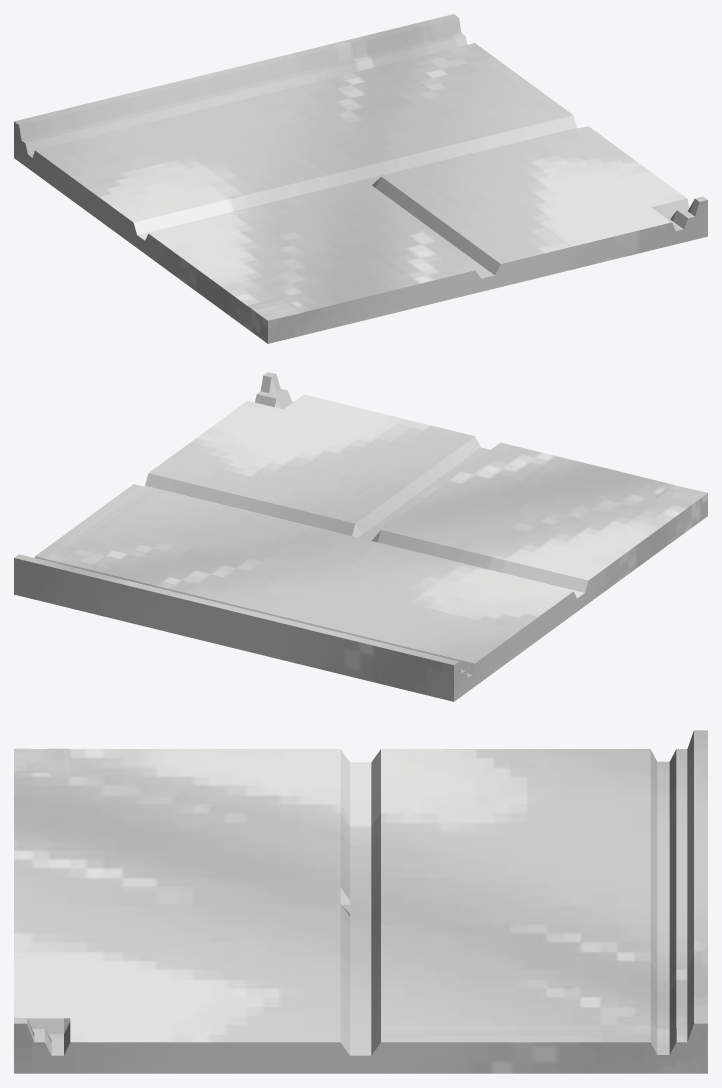
The model's file is AsymmetricalRightFloor.fbx.
The picture shows the model from 3 angles, top to bottom: view 1: azimuth 30°, elevation 25°; view 2: azimuth 150°, elevation 25°; view 3: azimuth 270°, elevation 25°; orthographic projection. The views are drawn at different scales.
Parts seen in each view (by area): view 1: pCube287; view 2: pCube287; view 3: pCube287.
Part boxes in pixels (x1,y1,x2,y2): pCube287: (14, 14, 707, 343); pCube287: (14, 372, 707, 701); pCube287: (14, 730, 707, 1073).
Size of the model in its own units: 500 by 39.86 by 500.
Materials: 1 (1 with a texture image).
